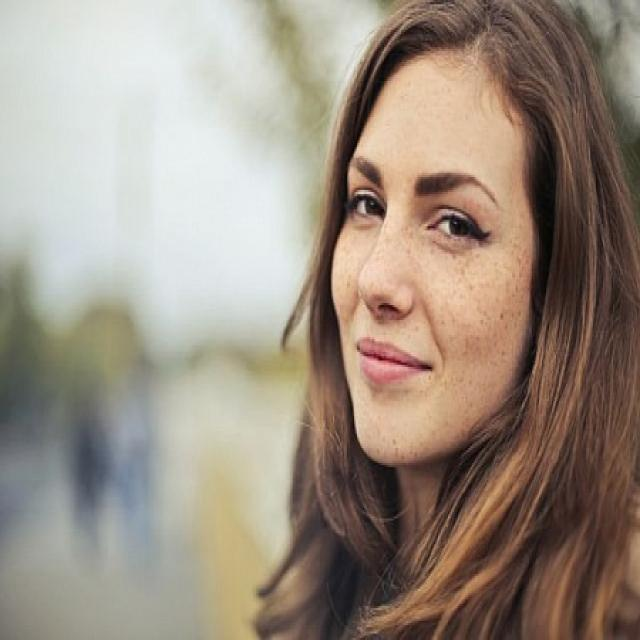Eyes: (338, 153, 502, 266)
